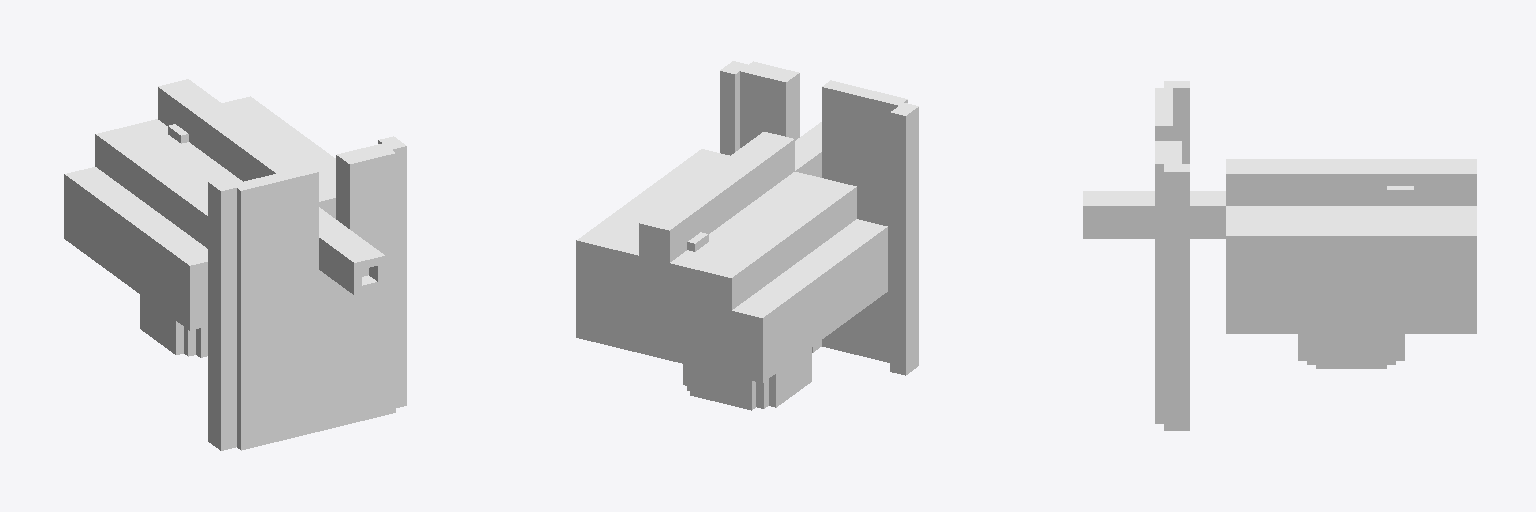
Rendered from EnTorret-0.obj.
3 renders of one model, left to right at view 1: azimuth 30°, elevation 25°; view 2: azimuth 150°, elevation 25°; view 3: azimuth 270°, elevation 25°, orthographic.
Visible parts, largest first — view 1: object 1; view 2: object 1; view 3: object 1.
Part boxes in pixels (left/top/right/bottom): object 1: left=64, top=79, right=406, bottom=450; object 1: left=576, top=61, right=918, bottom=410; object 1: left=1083, top=81, right=1476, bottom=430.
Bounding box in the file's own units: 2.4 × 3.2 × 4.4.